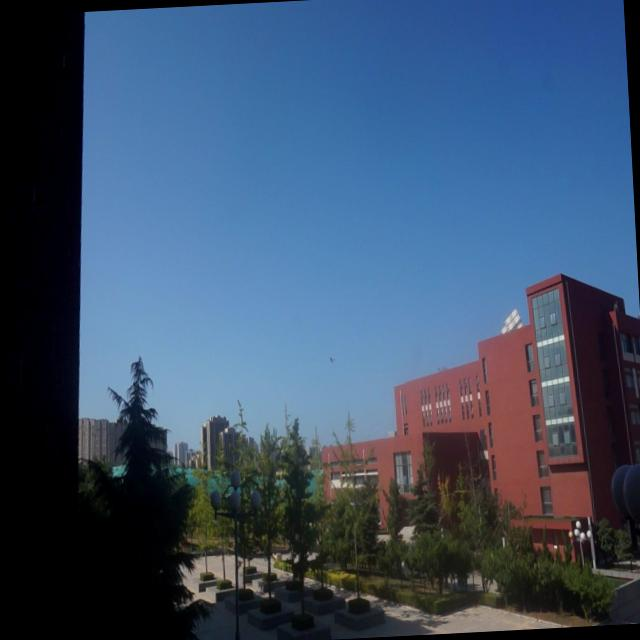drone: (323, 351, 337, 368)
